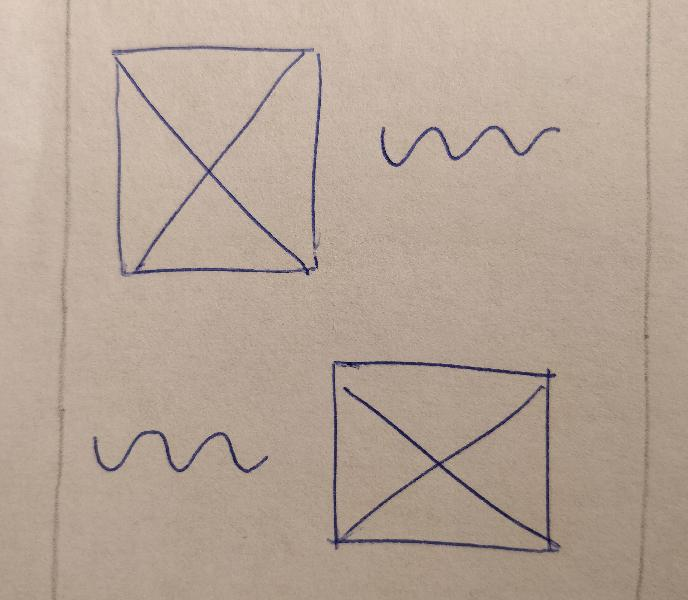image: (105, 39, 326, 280), (322, 350, 566, 568)
text: (369, 100, 561, 181), (80, 413, 272, 494)
